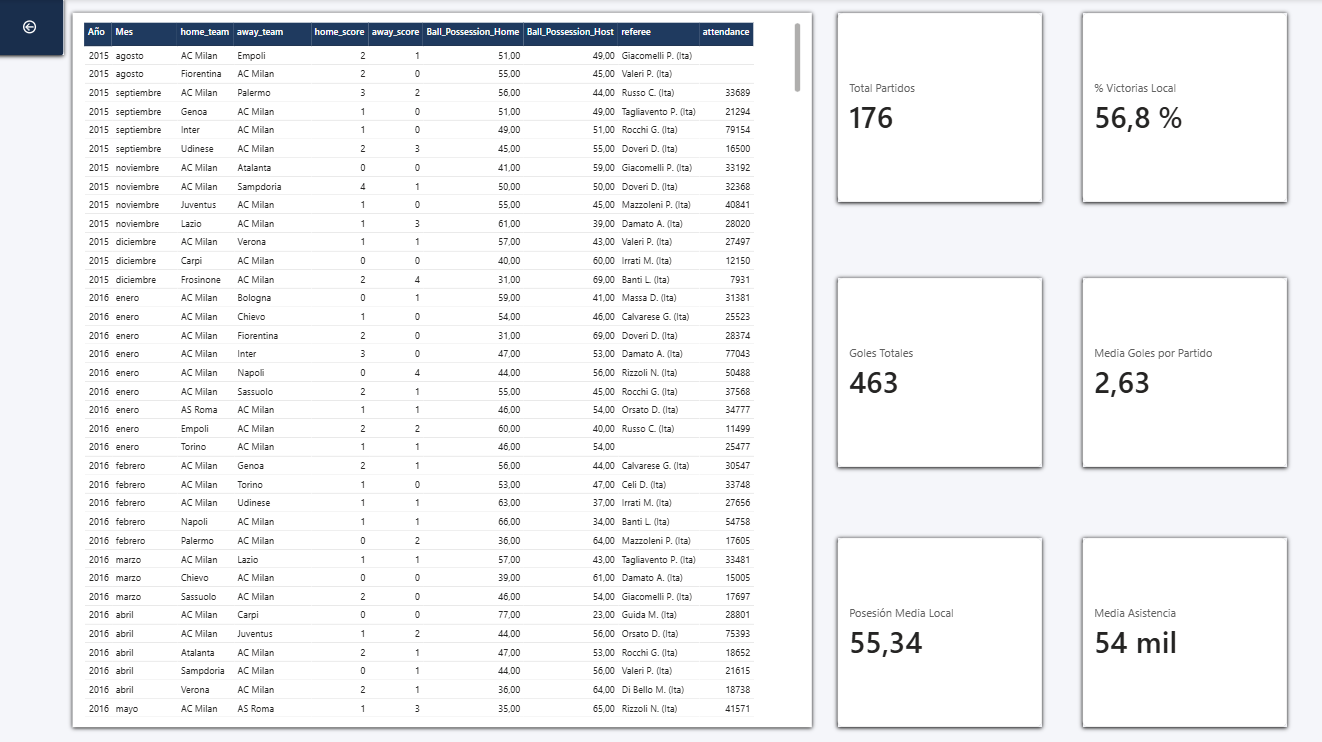

The page's visual inventory and layout, read from the dashboard file:
{"tool":"powerbi","page":{"name":"Detalle","canvas":[1920,1080],"ordinal":3},"visuals":[{"type":"tableEx","fields":{"Values":["Fact_detalle.Fecha.Variación.Jerarquía de fechas.Año","Fact_detalle.Fecha.Variación.Jerarquía de fechas.Mes","Fact_detalle.home_team","Fact_detalle.away_team","Fact_detalle.home_score","Fact_detalle.away_score","Fact_detalle.Ball_Possession_Home","Fact_detalle.Ball_Possession_Host","Fact_detalle.referee","Fact_detalle.attendance"]},"box":[112.2,19.9,1070,1034],"z":0},{"type":"actionButton","box":[0,0,99.5,81.4],"z":1},{"type":"cardVisual","fields":{"Data":["Medidas.Goles Totales"]},"box":[1219.7,403.6,296,274],"z":2},{"type":"cardVisual","fields":{"Data":["Medidas.Media Goles por Partido"]},"box":[1574.4,403.6,296,274],"z":5},{"type":"cardVisual","fields":{"Data":["Medidas.Posesión Media Local"]},"box":[1219.7,780,296,274],"z":6},{"type":"cardVisual","fields":{"Data":["Medidas.Media Asistencia"]},"box":[1574.4,780,296,274],"z":7},{"type":"cardVisual","fields":{"Data":["Medidas.Total Partidos"]},"box":[1219.7,19.9,296,274],"z":8},{"type":"cardVisual","fields":{"Data":["Medidas.% Victorias Local"]},"box":[1574.4,19.9,296,274],"z":9}]}

Visuals, with their boxes on the page's 1920x1080 design canvas (x1, y1, x2, y2). These are canvas units, not pixel positions in the 1322x742 screenshot, which may show the page scaled, cropped or inside an application window:
tableEx - Fact_detalle.Fecha.Variación.Jerarquía de fechas.Año x Fact_detalle.Fecha.Variación.Jerarquía de fechas.Mes: bbox=[112, 20, 1182, 1054]
actionButton: bbox=[0, 0, 100, 81]
cardVisual - Medidas.Goles Totales: bbox=[1220, 404, 1516, 678]
cardVisual - Medidas.Media Goles por Partido: bbox=[1574, 404, 1870, 678]
cardVisual - Medidas.Posesión Media Local: bbox=[1220, 780, 1516, 1054]
cardVisual - Medidas.Media Asistencia: bbox=[1574, 780, 1870, 1054]
cardVisual - Medidas.Total Partidos: bbox=[1220, 20, 1516, 294]
cardVisual - Medidas.% Victorias Local: bbox=[1574, 20, 1870, 294]
